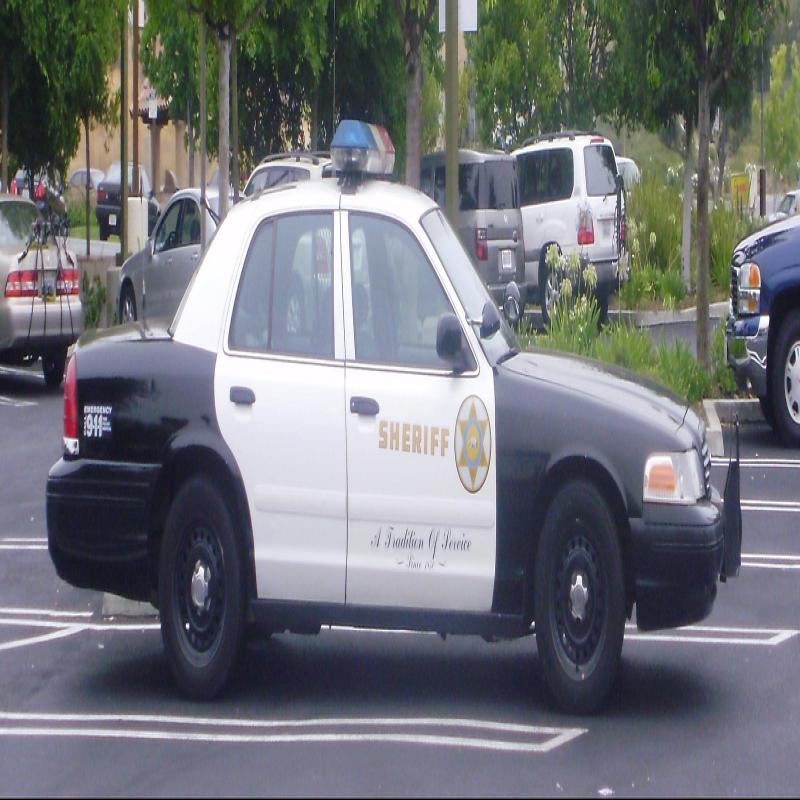AmbulanceSiren: (322, 66, 399, 213)
